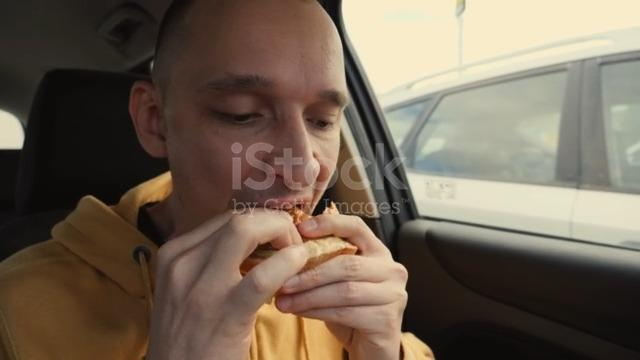Eating: (132, 3, 411, 325)
